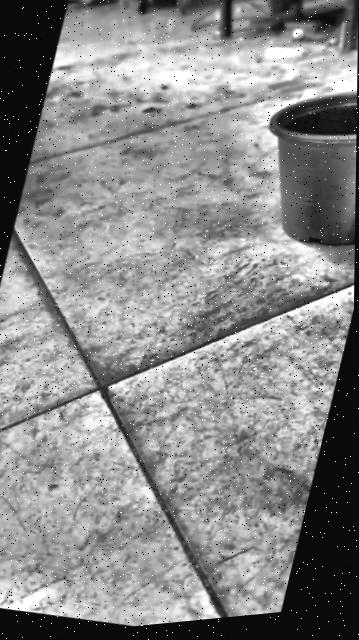pot: (242, 66, 358, 261)
